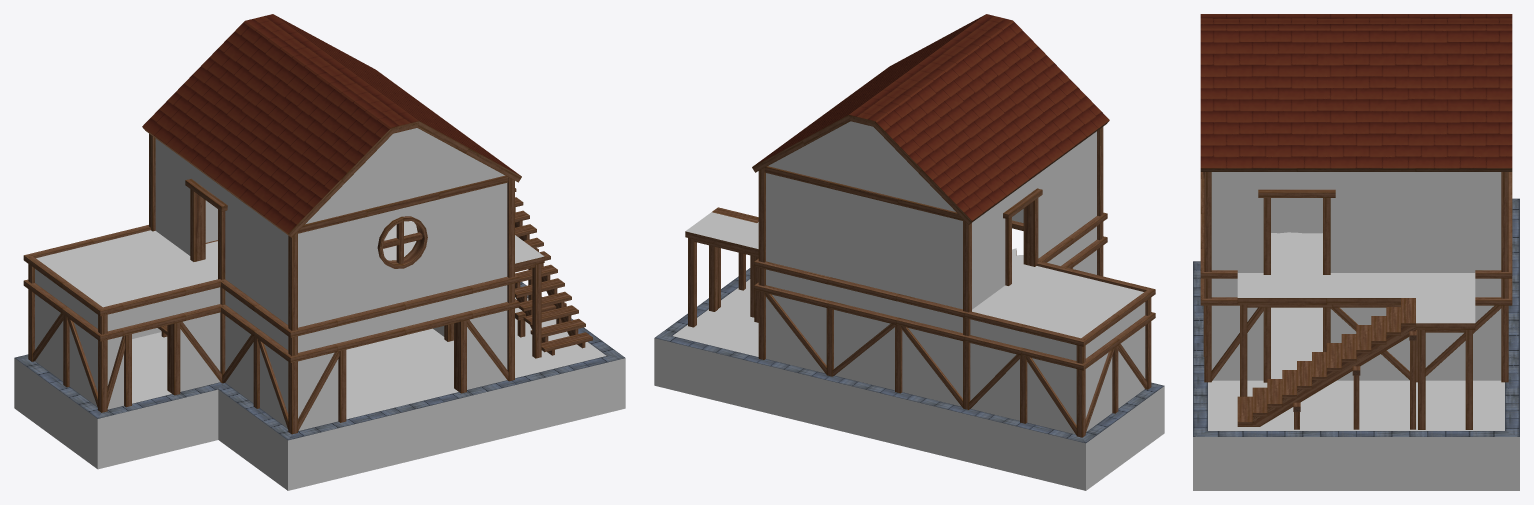
Rendered from WaterMill.fbx.
The picture shows the model from 3 angles, left to right: view 1: azimuth 30°, elevation 25°; view 2: azimuth 150°, elevation 25°; view 3: azimuth 270°, elevation 25°; orthographic projection. The views are drawn at different scales.
Visible parts, largest first — view 1: WaterMill; view 2: WaterMill; view 3: WaterMill.
Boxes of the visible parts, box(x1,y1,x2,y2) form: WaterMill: box(14, 14, 625, 490); WaterMill: box(654, 14, 1164, 490); WaterMill: box(1193, 14, 1519, 490).
Size of the model in its own units: 19 by 13.25 by 11.
